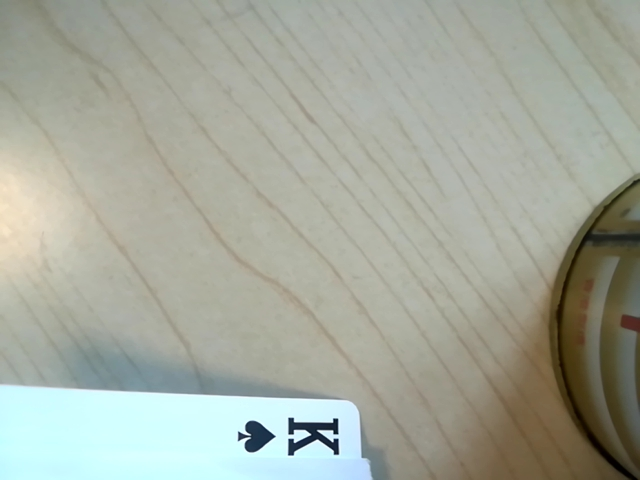ht k: (226, 401, 363, 469)
